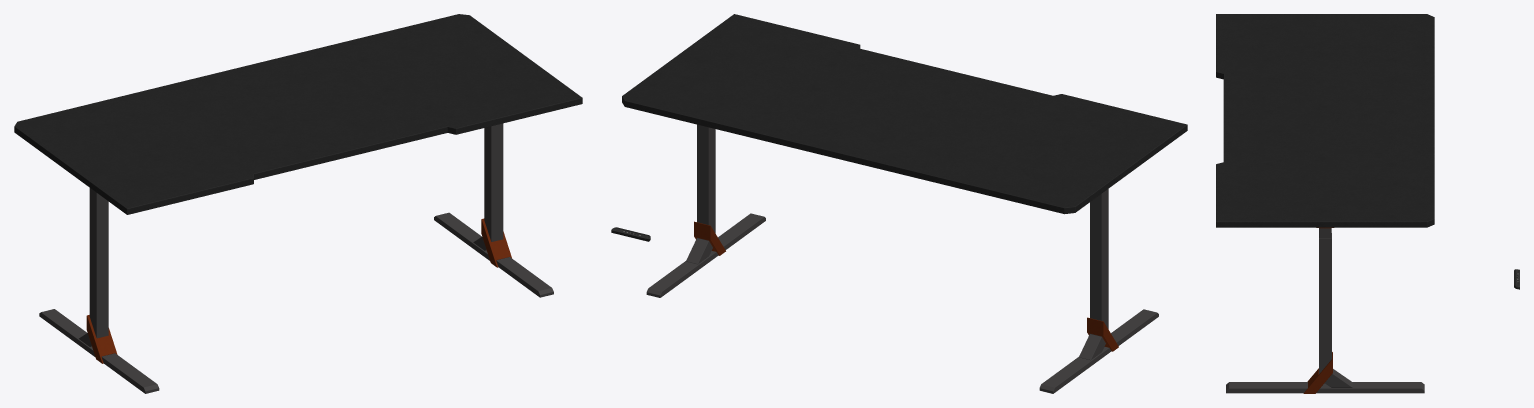
Rendered from desk.glb.
The picture shows the model from 3 angles, left to right: view 1: azimuth 30°, elevation 25°; view 2: azimuth 150°, elevation 25°; view 3: azimuth 270°, elevation 25°; orthographic projection. The views are drawn at different scales.
Parts seen in each view (by area): view 1: Desk_Top, Desk_Frame; view 2: Desk_Top, Desk_Frame; view 3: Desk_Top, Desk_Frame.
Part boxes in pixels (bbox=[...]): Desk_Top: bbox=[14, 14, 582, 214]; Desk_Frame: bbox=[39, 123, 553, 393]; Desk_Top: bbox=[622, 14, 1187, 214]; Desk_Frame: bbox=[646, 124, 1158, 393]; Desk_Top: bbox=[1216, 14, 1434, 227]; Desk_Frame: bbox=[1226, 227, 1424, 393].
Bounding box in the file's own units: 1.8 × 0.7357 × 1.11.
9 materials, 9 textured.
